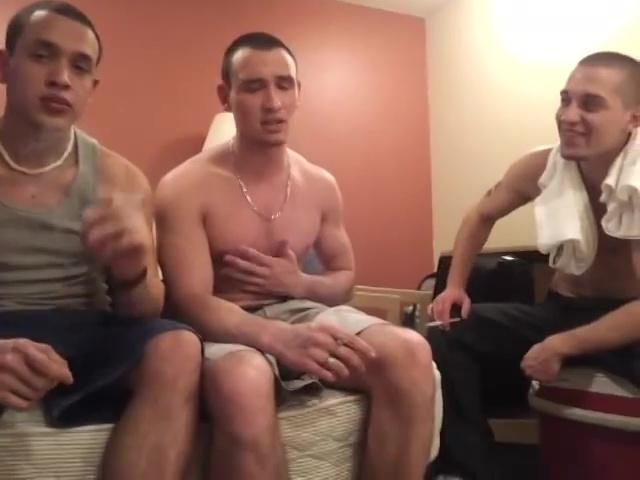cigarette: (425, 316, 462, 330)
